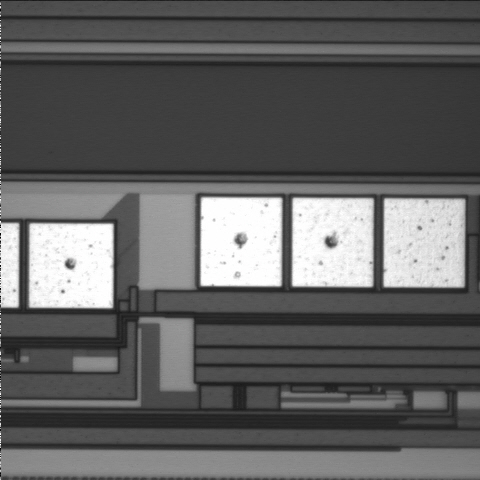pad: (200, 197, 282, 286), (292, 198, 373, 287), (29, 223, 113, 308), (384, 199, 465, 287)
